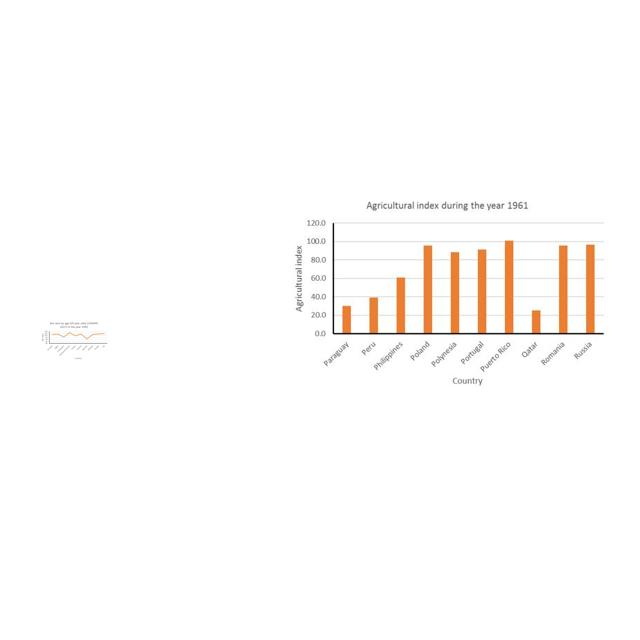Graph: (287, 196, 609, 387), (40, 320, 109, 361)
